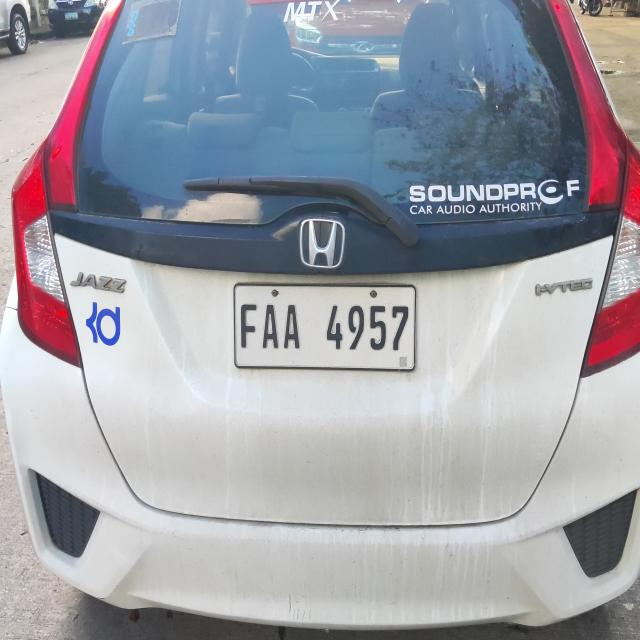plate: (231, 278, 419, 374)
